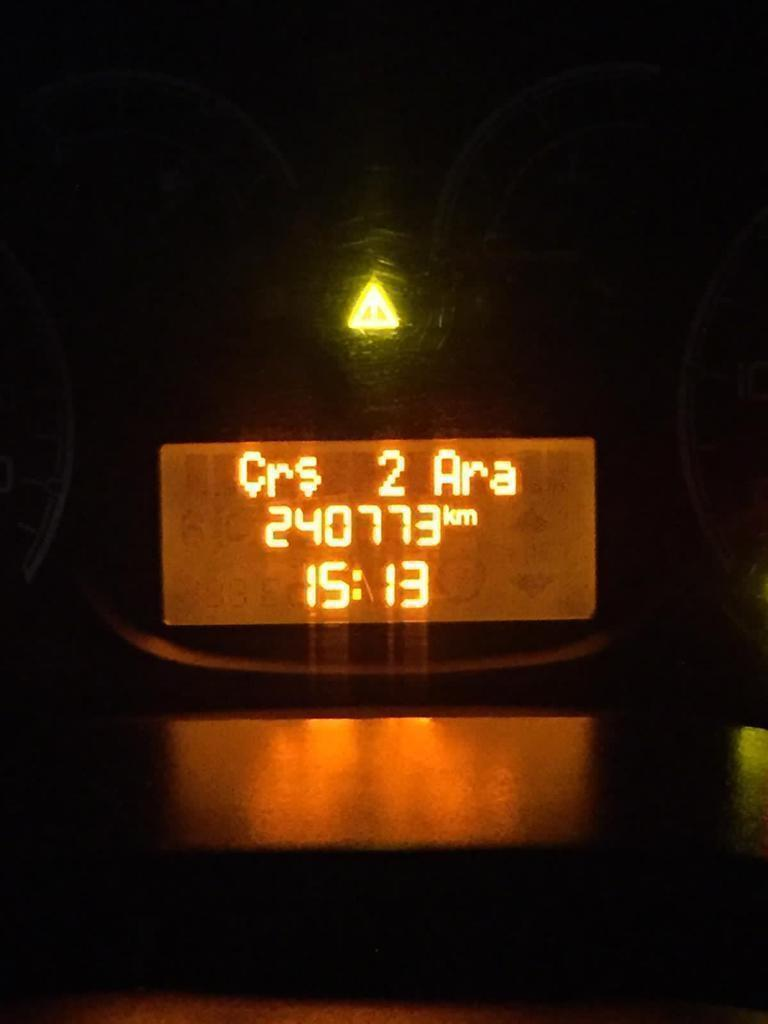0: (324, 503, 352, 547)
1: (305, 561, 316, 610), (384, 560, 395, 608)
2: (378, 448, 406, 497), (264, 505, 291, 547)
3: (399, 558, 429, 609), (415, 502, 440, 545)
4: (293, 506, 323, 544)
5: (318, 559, 349, 610)
7: (357, 502, 384, 545), (385, 502, 411, 543)
X: (433, 447, 460, 496), (238, 449, 264, 498), (296, 455, 322, 498), (460, 459, 488, 496), (489, 458, 516, 496), (267, 461, 293, 498), (352, 566, 365, 602), (457, 506, 478, 527), (443, 503, 456, 526)
odometer: (150, 431, 611, 637)
